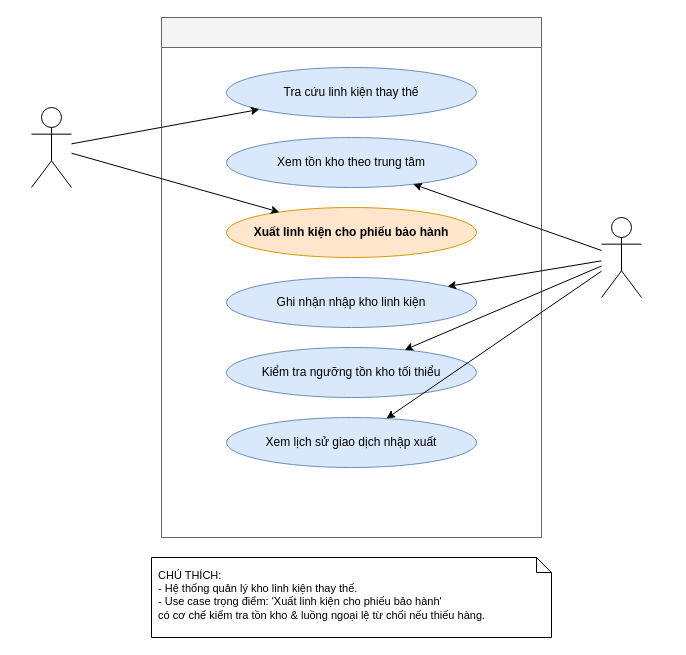
This 686x655 diagram has some shape labels left out. Here are the shapes that lost their labels. From the top down, the box of each, then its label:
(30, 106, 72, 188): Kỹ thuật viên
(160, 16, 542, 538): Hệ thống Quản lý kho linh kiện thay thế
(600, 216, 642, 298): Quản lý trung tâm
